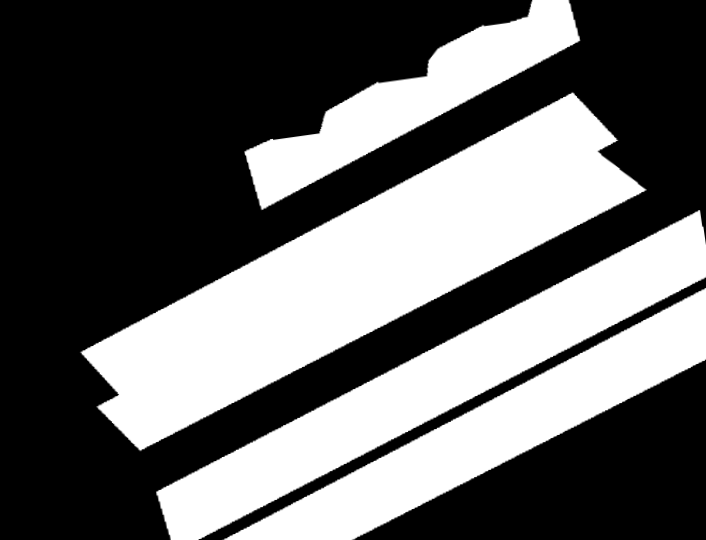parkingspot: (81, 93, 646, 451), (156, 210, 706, 540), (224, 288, 706, 540), (245, 0, 580, 210)
